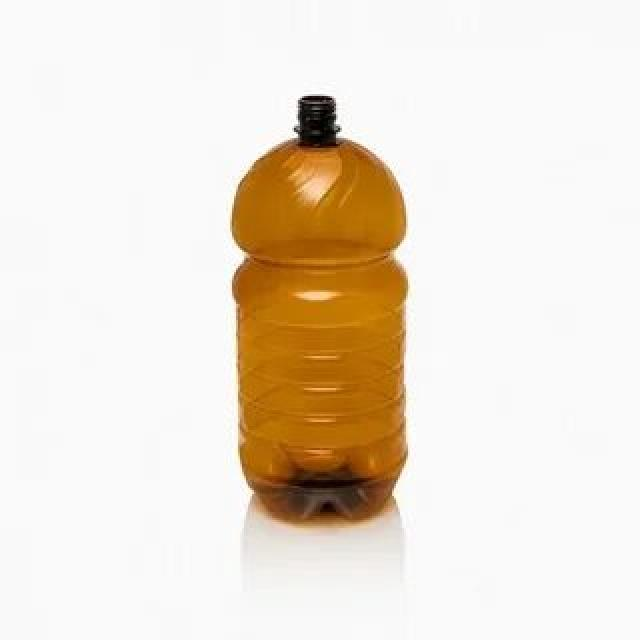brown: (232, 95, 405, 522)
